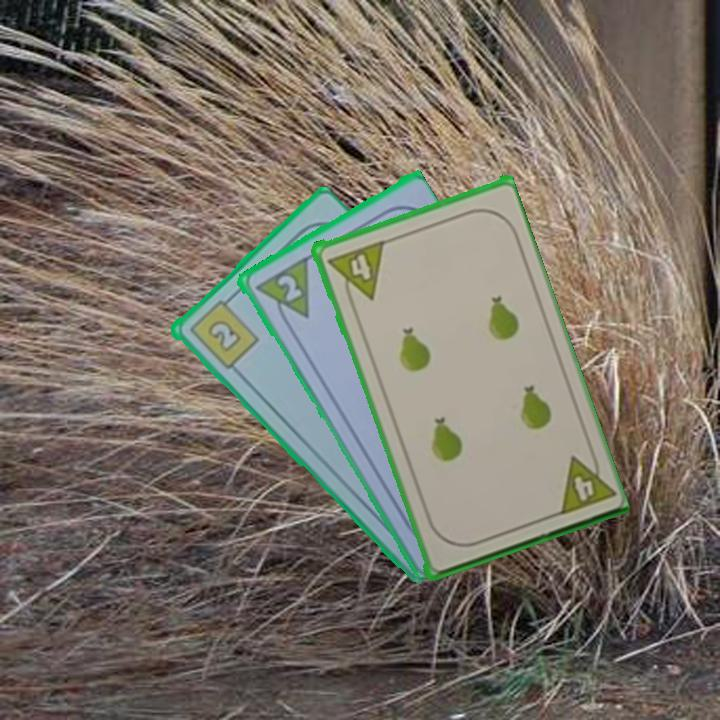2b: (184, 292, 261, 372)
2p: (250, 254, 312, 331)
4p: (552, 445, 616, 518), (323, 237, 387, 308)
